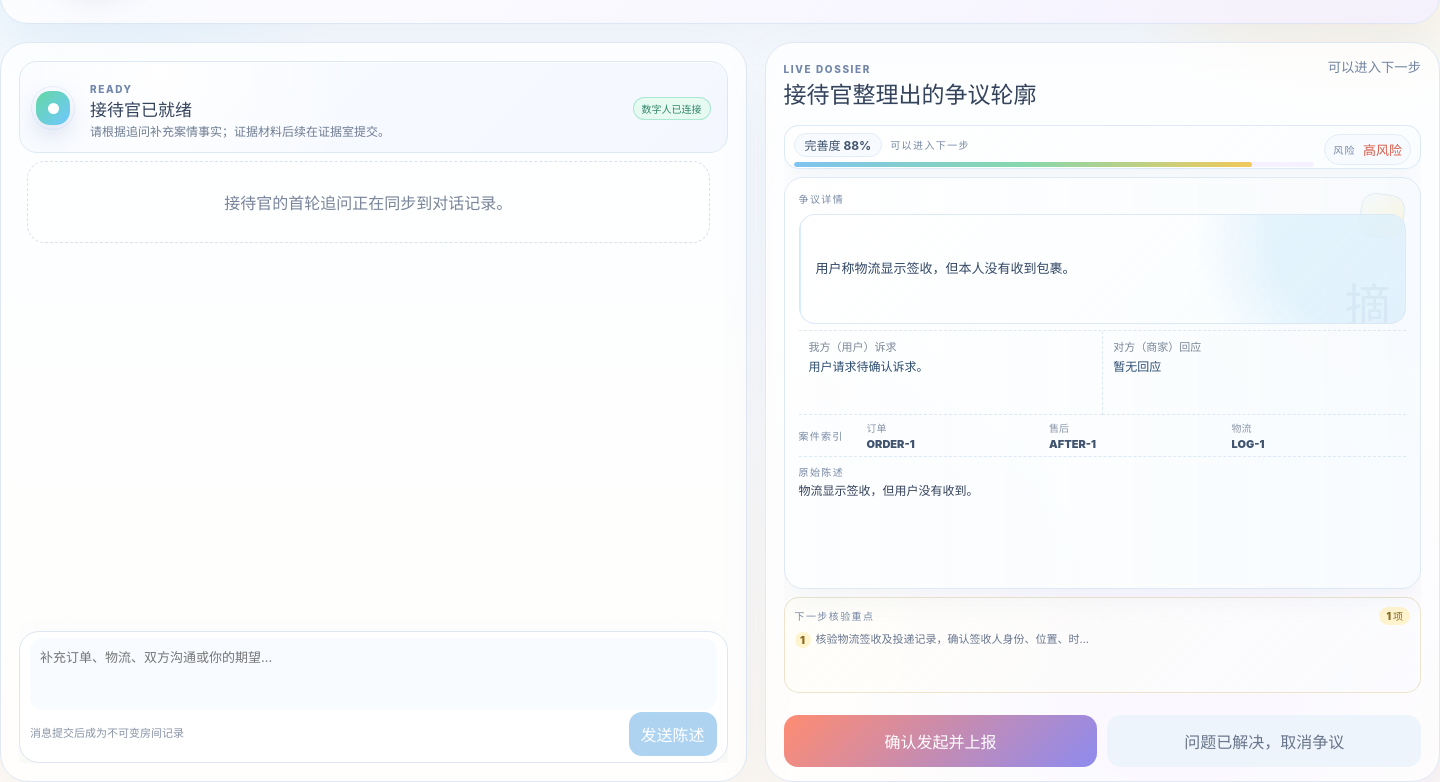
Test case: IntakeRoomView › shows service errors in a modal notice instead of embedding them in the right dossier card
The width and height of the screenshot is (1440, 782).
(page scrolled)
Click the button "确认发起并上报": (940, 741) [784,715,1097,767]
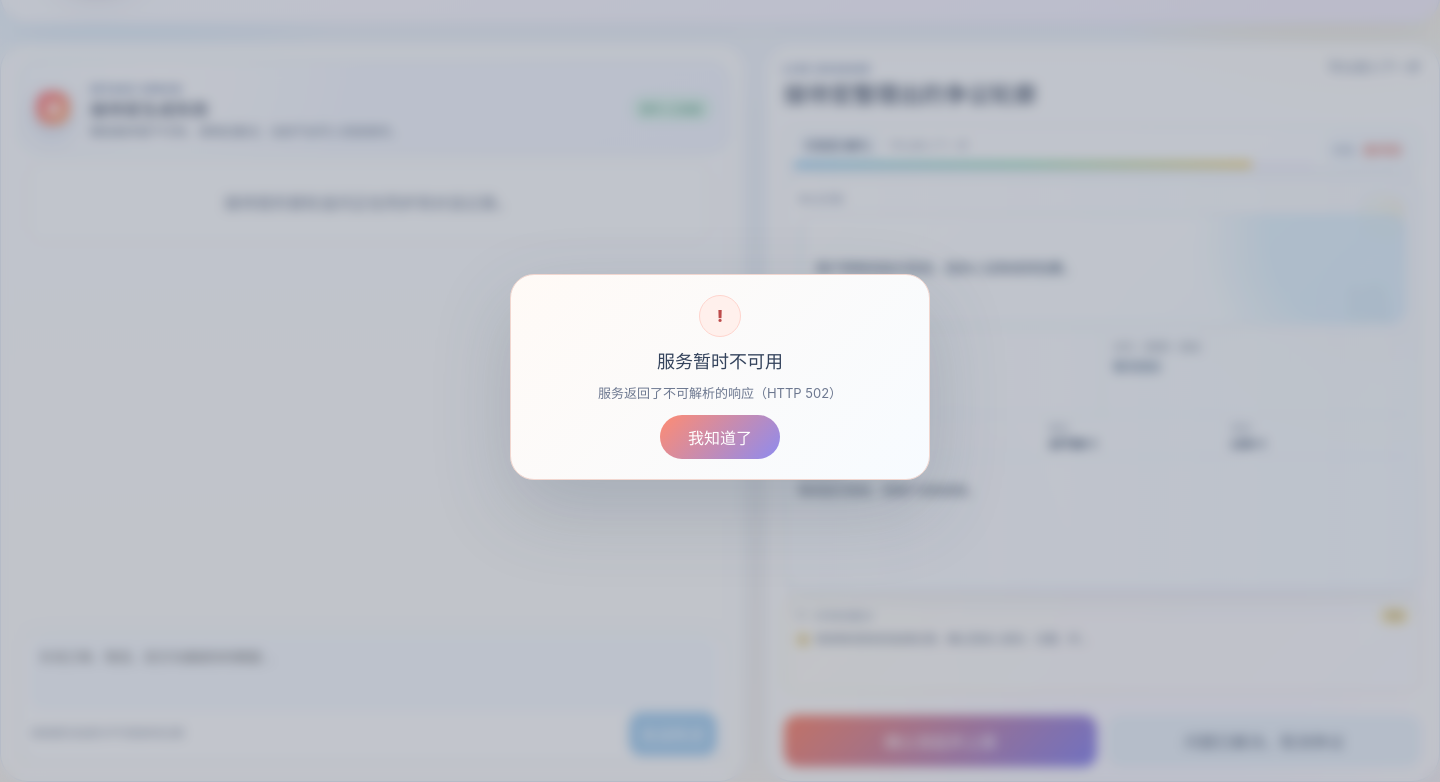
Expected: the text "HTTP 502" is not shown
Now the dialog shows "服务暂时不可用", box [657,351,783,372]
Now the dialog shows "HTTP 502", box [598,385,842,401]
